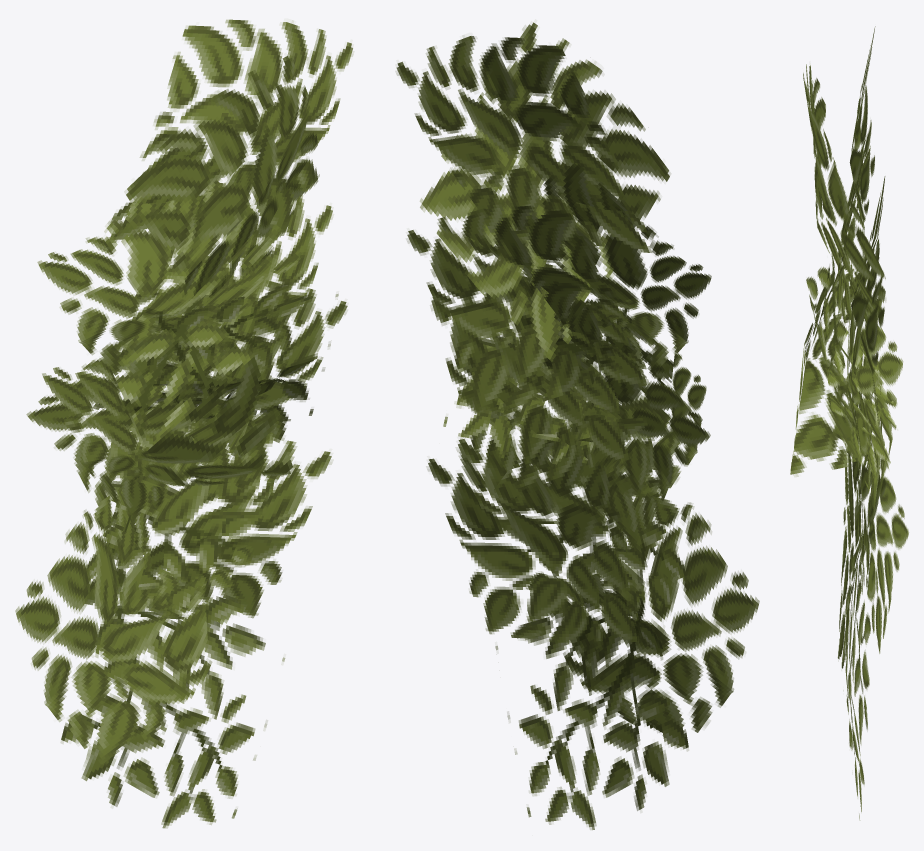
File: vine_hanging_alt.glb
The picture shows the model from 3 angles, left to right: view 1: azimuth 30°, elevation 25°; view 2: azimuth 150°, elevation 25°; view 3: azimuth 270°, elevation 25°; orthographic projection. The views are drawn at different scales.
Parts seen in each view (by area): view 1: vine_hanging_alt; view 2: vine_hanging_alt; view 3: vine_hanging_alt.
Part boxes in pixels (box(x1,y1,x2,y2)): vine_hanging_alt: box(15, 19, 353, 828); vine_hanging_alt: box(395, 22, 759, 829); vine_hanging_alt: box(790, 26, 908, 819).
Bounding box in the file's own units: 0.9921 × 2.16 × 0.2932.
1 material, 1 textured.
